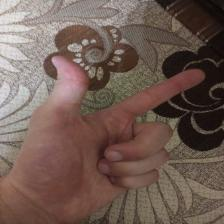five: (11, 53, 212, 192)
